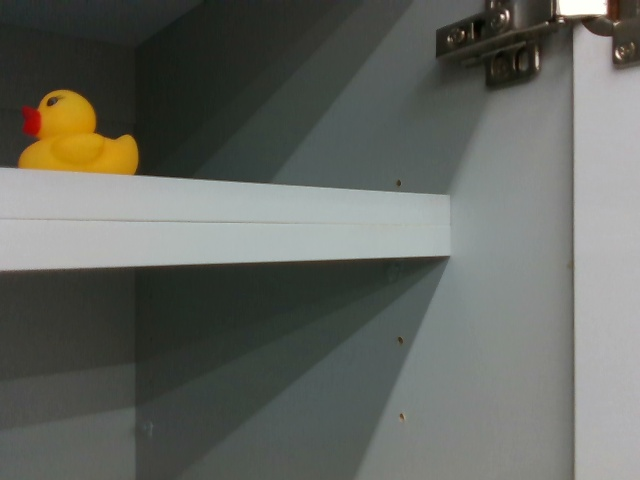duck: (15, 85, 141, 178)
